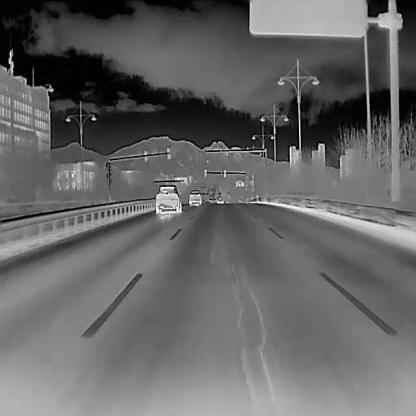car: (154, 184, 181, 214), (187, 190, 202, 206), (215, 196, 224, 204)
